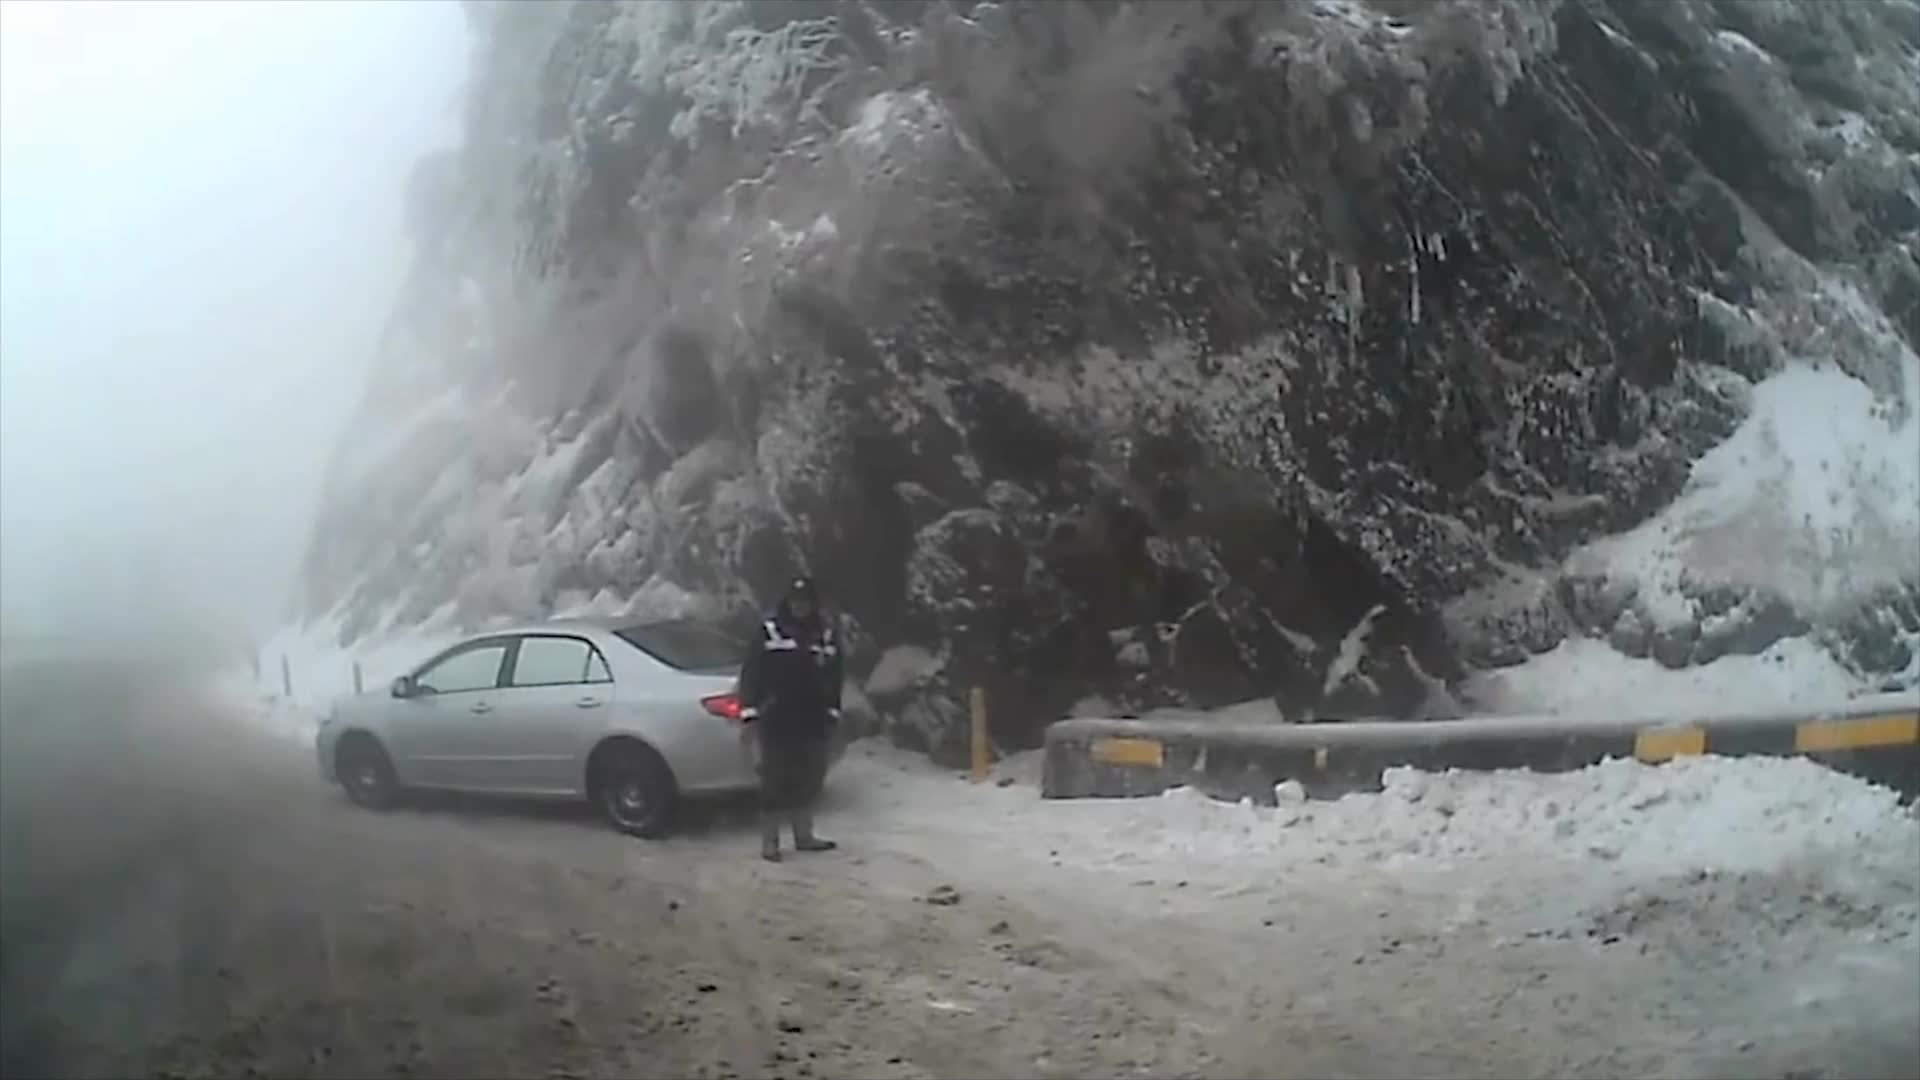pedestrian: (734, 580, 843, 868)
vehicle: (315, 608, 851, 838)
